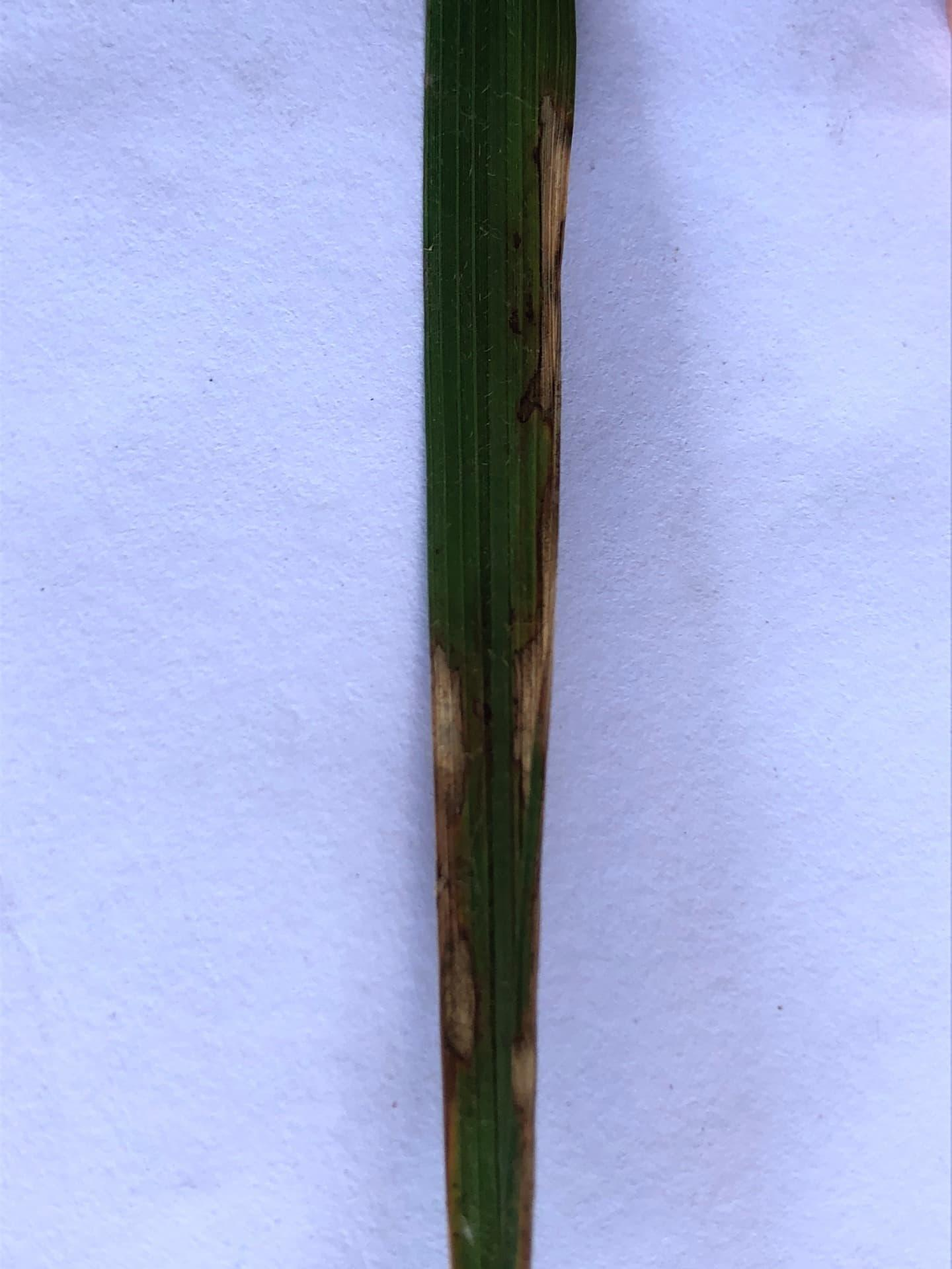Leaf Blight: (516, 101, 571, 804), (428, 646, 483, 1225), (508, 956, 538, 1268)
